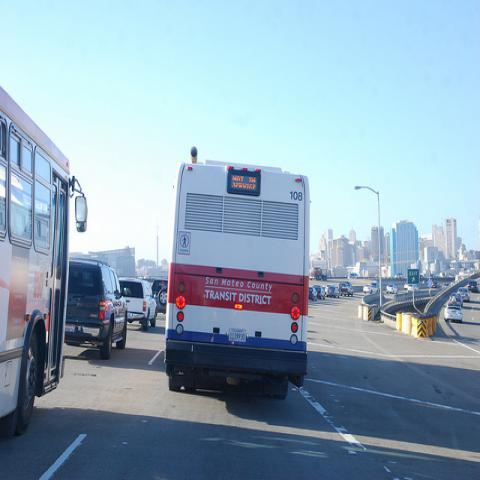bus: (165, 148, 311, 398), (1, 85, 89, 433)
car: (65, 256, 131, 362), (311, 263, 472, 303), (119, 278, 157, 329), (442, 296, 464, 323), (152, 279, 169, 312), (338, 281, 354, 299), (457, 287, 470, 302), (363, 284, 380, 294), (326, 286, 340, 298), (308, 286, 318, 302), (386, 283, 398, 294), (467, 279, 478, 291), (316, 287, 325, 300), (407, 283, 419, 292)
